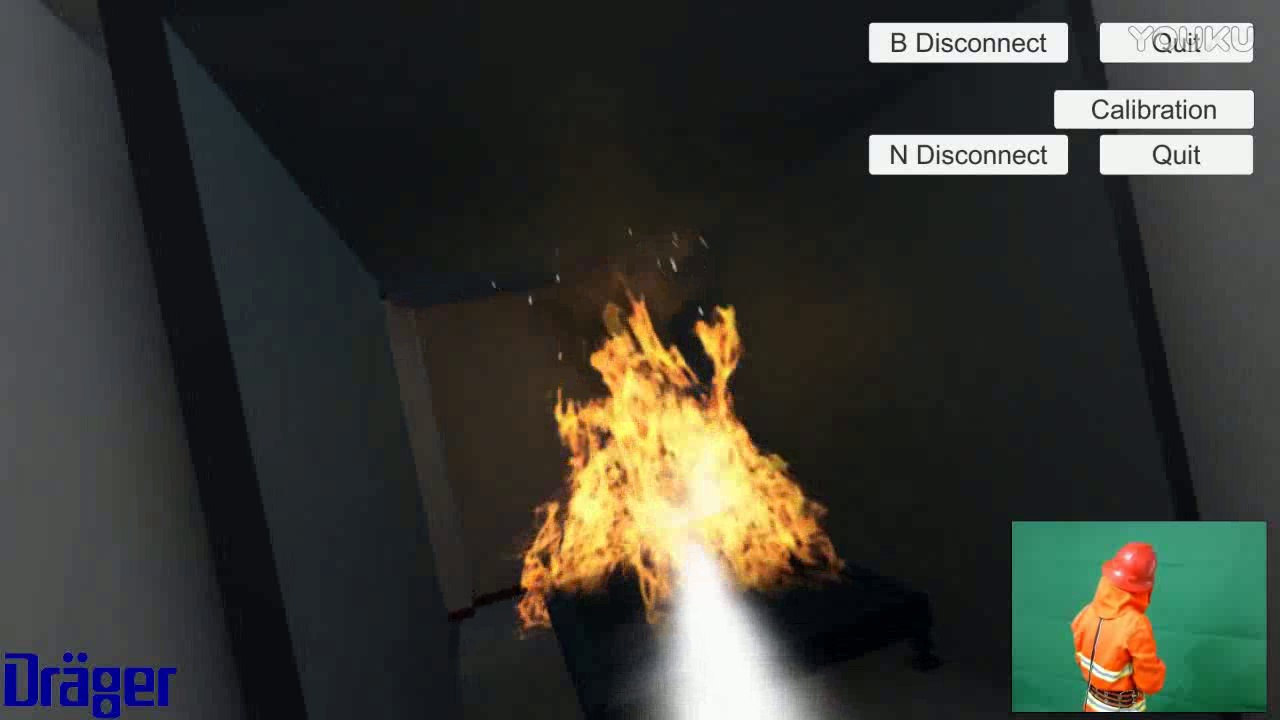fire: (509, 282, 850, 629)
